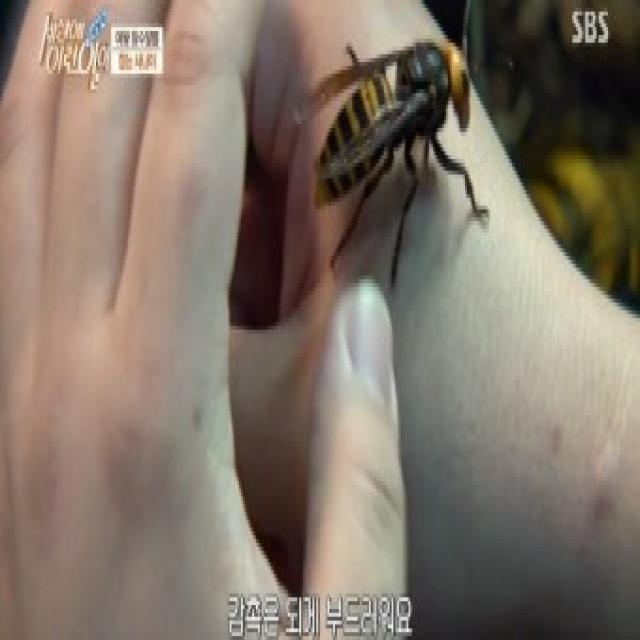Wasp: (314, 0, 496, 264)
